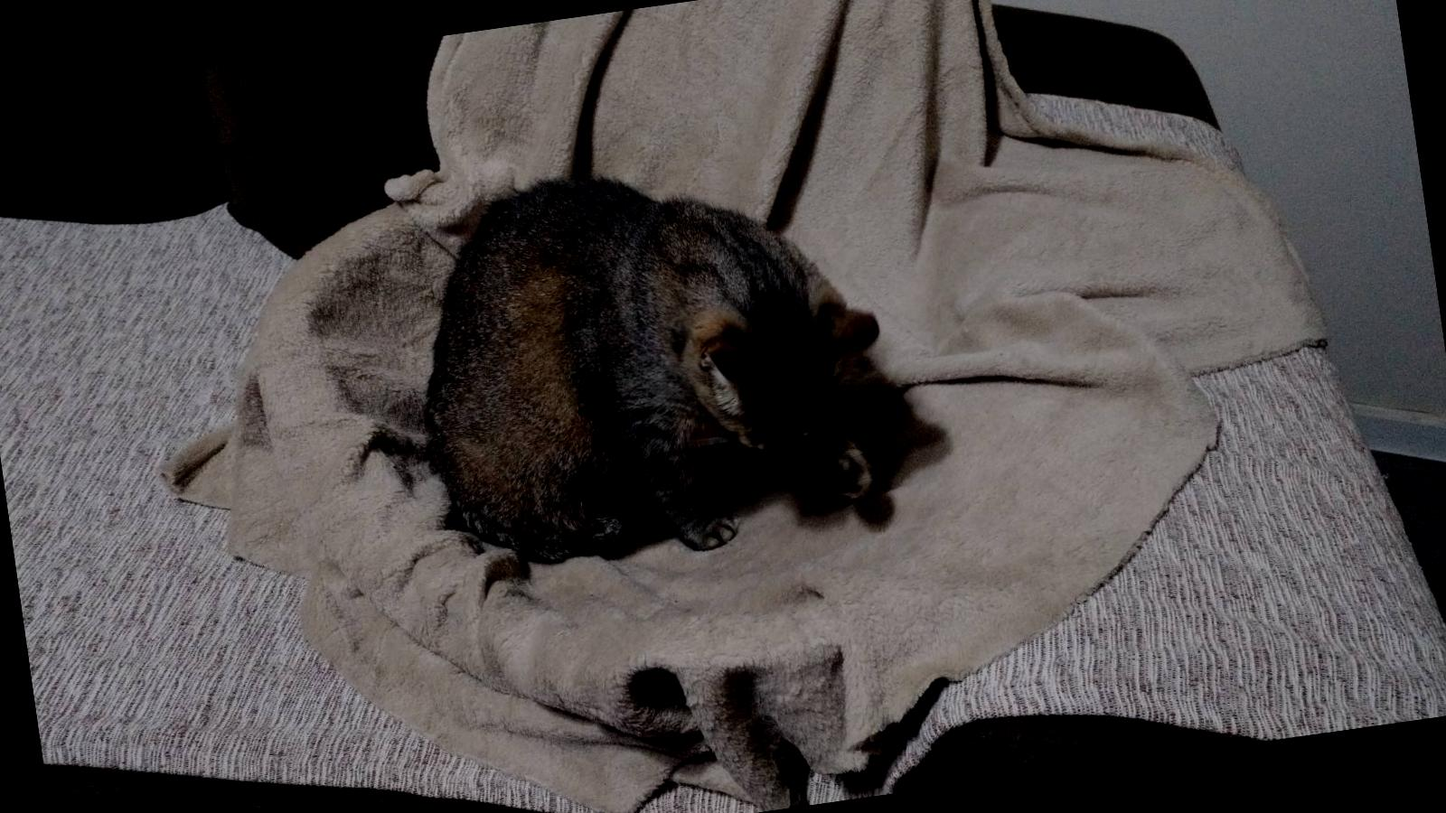macka: (393, 137, 911, 585)
